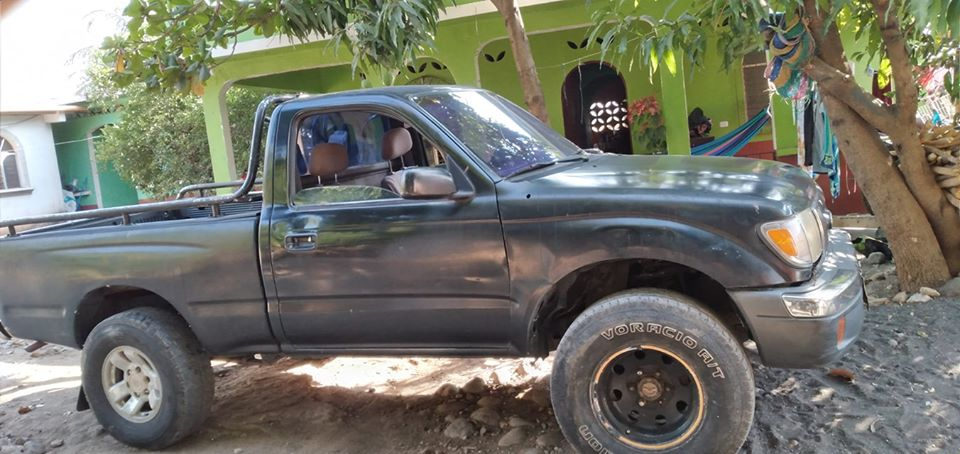pickup: (8, 89, 872, 440)
